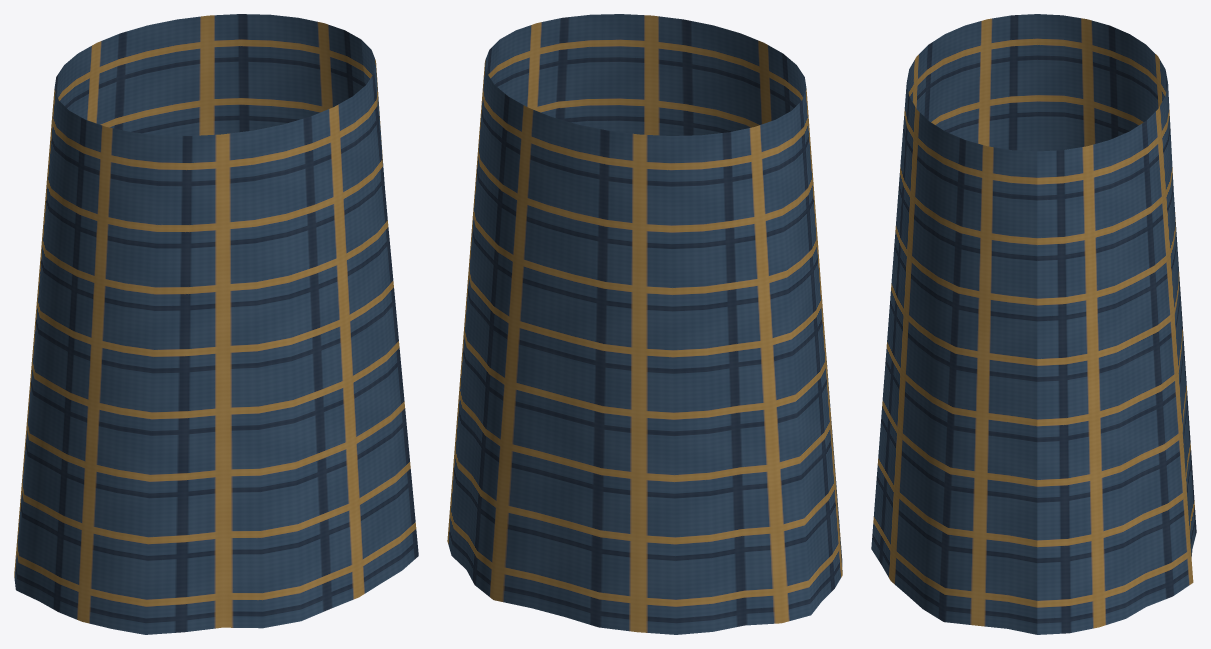
File: cloth_mundu_kalli.glb
3 views of the same model, side by side, from view 1: azimuth 30°, elevation 25°; view 2: azimuth 150°, elevation 25°; view 3: azimuth 270°, elevation 25° (orthographic). The views are drawn at different scales.
Parts seen in each view (by area): view 1: Cloth_Mundu_Kalli; view 2: Cloth_Mundu_Kalli; view 3: Cloth_Mundu_Kalli.
Part boxes in pixels (x1=…): Cloth_Mundu_Kalli: x1=14, y1=14, x2=418, y2=634; Cloth_Mundu_Kalli: x1=447, y1=14, x2=842, y2=634; Cloth_Mundu_Kalli: x1=871, y1=14, x2=1196, y2=634.
Bounding box in the file's own units: 0.4898 × 0.62 × 0.392.
1 material, 1 textured.
